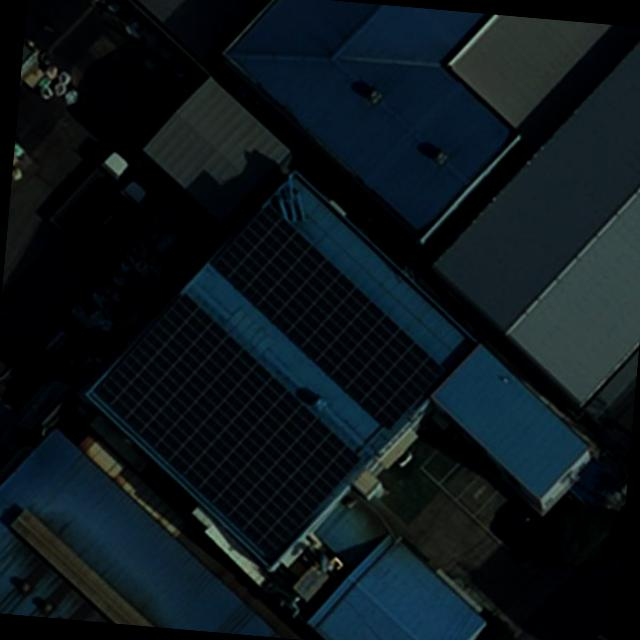solar: (72, 284, 372, 582), (193, 195, 458, 442)
